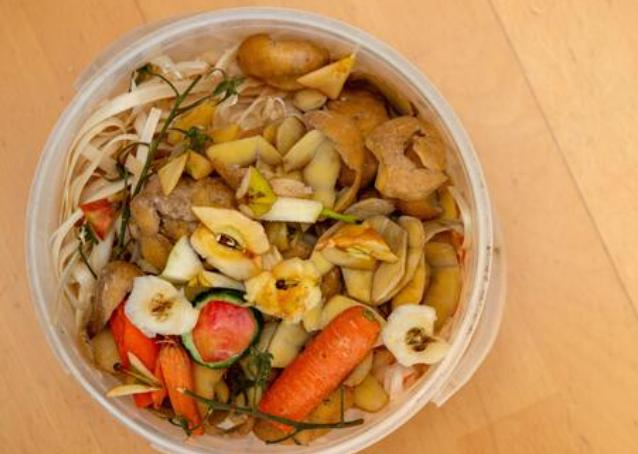organic: (90, 51, 452, 435)
